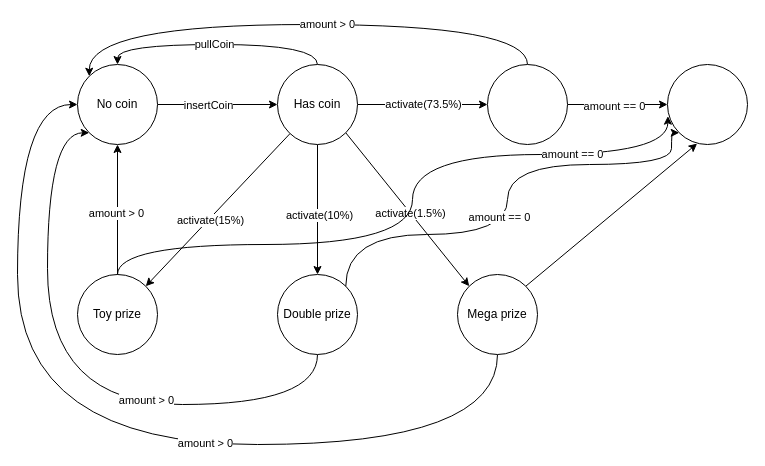
Image size: 765x466. Some labels were removed from this diagram. Here are the shapes that lost their labels. From the top down, the centre of each, then its label:
point 527,104: Activated
point 707,104: Prizes awarded
